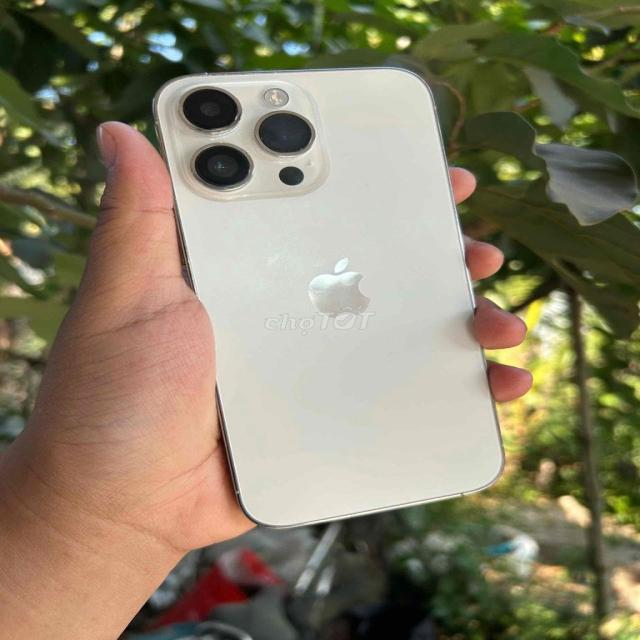gen_14: (147, 52, 513, 534)
